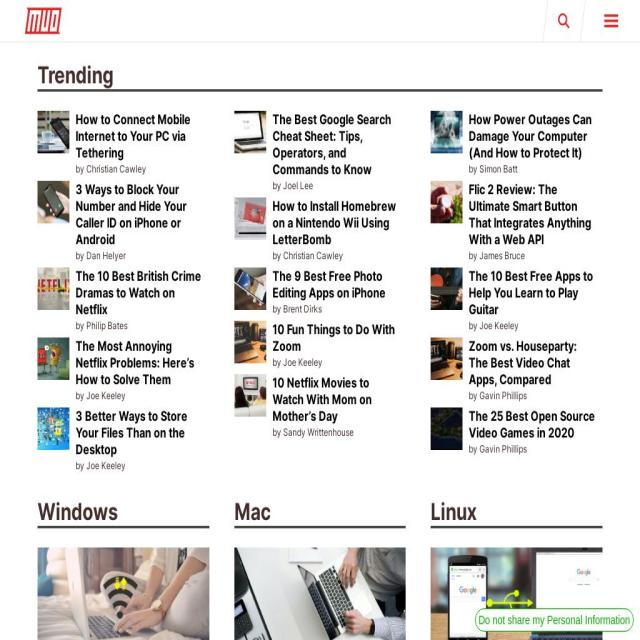button: (233, 546, 406, 640), (430, 546, 603, 640), (37, 546, 209, 640), (0, 0, 320, 42), (37, 267, 70, 311), (37, 337, 70, 381), (37, 407, 70, 451), (37, 111, 70, 154), (37, 181, 70, 224), (234, 197, 266, 241), (234, 267, 266, 311), (234, 374, 266, 418), (431, 267, 463, 311), (431, 337, 463, 381), (431, 407, 463, 451), (234, 111, 266, 154), (234, 321, 266, 364), (431, 111, 463, 154), (431, 181, 463, 224)
heading: (469, 181, 592, 248), (272, 111, 391, 178), (75, 181, 187, 248), (468, 110, 592, 162), (75, 268, 201, 318), (468, 268, 594, 318), (272, 198, 396, 248), (75, 110, 191, 162), (75, 338, 194, 388), (75, 408, 187, 458), (468, 338, 578, 388), (272, 374, 372, 425), (468, 408, 596, 442), (272, 321, 395, 355), (272, 268, 386, 302), (38, 496, 118, 526), (38, 61, 114, 90), (430, 496, 478, 526), (233, 496, 270, 526)
image: (233, 546, 406, 640), (430, 546, 603, 640), (37, 546, 209, 640), (37, 267, 70, 311), (37, 337, 70, 381), (37, 407, 70, 451), (37, 111, 70, 154), (37, 181, 70, 224), (234, 197, 266, 241), (234, 267, 266, 311), (234, 374, 266, 418), (431, 267, 463, 311), (431, 337, 463, 381), (431, 407, 463, 451), (234, 111, 266, 154), (234, 321, 266, 364), (431, 111, 463, 154), (431, 181, 463, 224), (25, 8, 62, 34), (604, 14, 618, 28), (558, 14, 570, 28)
text: (474, 608, 634, 632), (272, 354, 400, 371), (272, 424, 400, 441), (75, 161, 203, 177), (75, 248, 203, 264), (75, 318, 203, 334), (75, 388, 203, 404), (75, 458, 203, 474), (272, 178, 400, 194), (272, 248, 400, 264), (272, 301, 400, 317), (469, 161, 597, 177), (469, 248, 597, 264), (469, 318, 597, 334), (469, 388, 597, 404), (469, 441, 597, 457)
